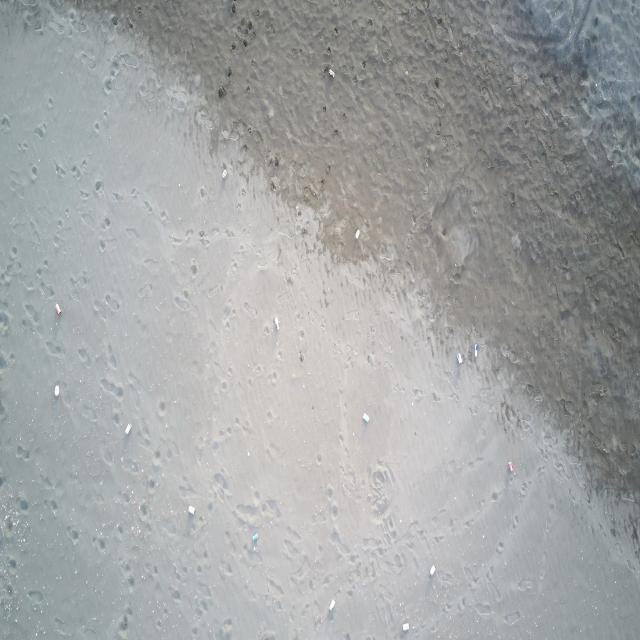Garbage: (507, 460, 515, 473), (252, 532, 258, 546), (455, 352, 462, 364), (273, 316, 279, 329), (328, 600, 335, 611), (124, 423, 131, 433), (428, 565, 435, 575), (187, 504, 193, 515), (362, 412, 368, 423), (55, 303, 60, 316), (472, 344, 477, 356), (355, 228, 360, 239), (55, 384, 59, 396), (402, 623, 408, 631), (223, 168, 227, 179), (327, 68, 332, 76)
